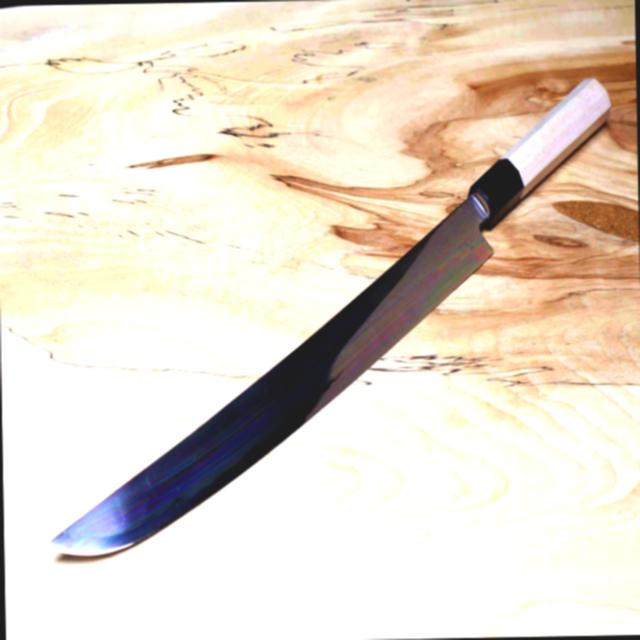short sword: (31, 73, 628, 570)
